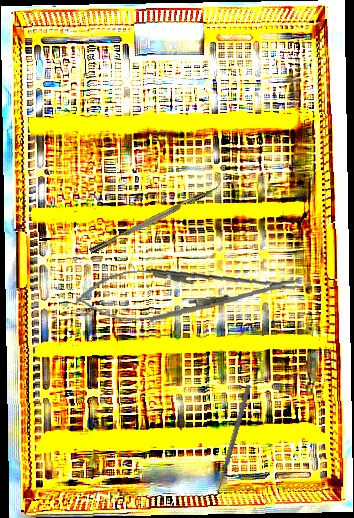Chopper: (85, 176, 226, 255)
Needle Holder: (74, 258, 302, 327)
Pusher: (214, 384, 253, 493)
